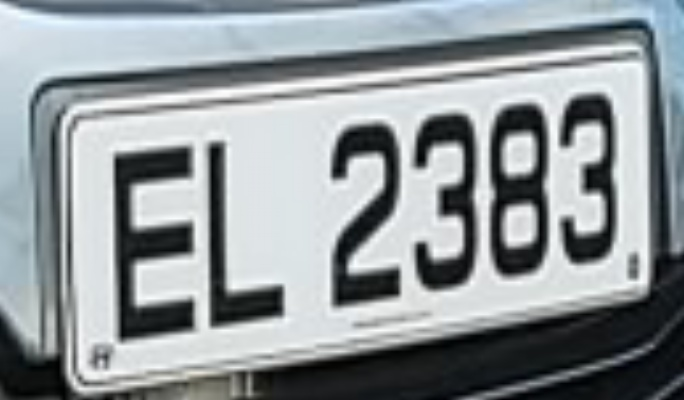2: (316, 109, 404, 318)
3: (400, 106, 475, 300), (548, 80, 617, 274)
8: (477, 95, 547, 283)
E: (96, 123, 205, 370)
L: (191, 127, 294, 351)
